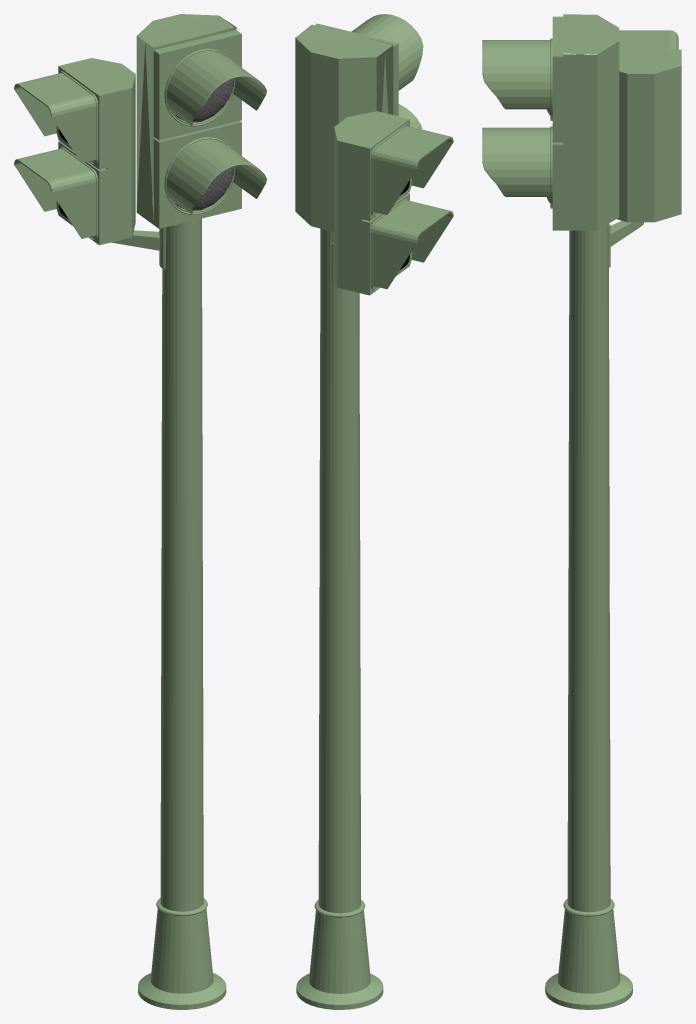
The model's file is w_highway_traffic_signals_pedestrian_cycle.glb.
3 views of the same model, side by side, from view 1: azimuth 30°, elevation 25°; view 2: azimuth 150°, elevation 25°; view 3: azimuth 270°, elevation 25° (orthographic).
Visible parts, largest first — view 1: semaforo (SU 2017); view 2: semaforo (SU 2017); view 3: semaforo (SU 2017).
Boxes of the visible parts, <box> form: semaforo (SU 2017): <box>14,14,266,1009</box>; semaforo (SU 2017): <box>295,14,453,1009</box>; semaforo (SU 2017): <box>482,14,681,1009</box>.
Size of the model in its own units: 0.4744 by 2.66 by 0.5014.
6 materials, 4 textured.
